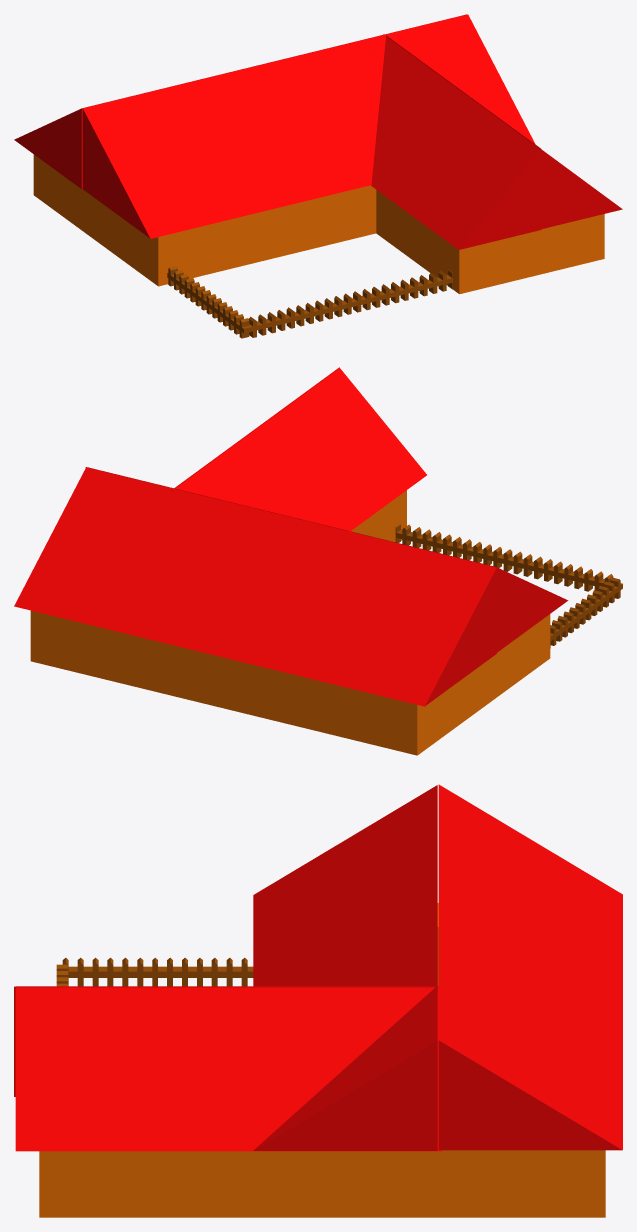
File: Barn.fbx
3 renders of one model, top to bottom at view 1: azimuth 30°, elevation 25°; view 2: azimuth 150°, elevation 25°; view 3: azimuth 270°, elevation 25°, orthographic. The views are drawn at different scales.
Parts seen in each view (by area): view 1: Cube.007, Cube.003, Cube.004, Cube.002, Cube.006, Cube.005, Cube.001; view 2: Cube.005, Cube.003, Cube.004, Cube.002, Cube.007, Cube.001; view 3: Cube.005, Cube.006, Cube.007, Cube.003, Cube.001, Cube.004.
Boxes of the visible parts, x1,y1,x2,y2 form: Cube.007: [83, 14, 535, 238]; Cube.003: [33, 154, 604, 294]; Cube.004: [371, 35, 541, 249]; Cube.002: [248, 269, 452, 337]; Cube.006: [383, 34, 622, 228]; Cube.005: [14, 14, 466, 189]; Cube.001: [167, 266, 251, 338]; Cube.005: [14, 467, 496, 706]; Cube.003: [30, 490, 550, 755]; Cube.004: [172, 367, 426, 531]; Cube.002: [395, 523, 613, 591]; Cube.007: [85, 467, 568, 652]; Cube.001: [550, 577, 622, 648]; Cube.005: [438, 784, 622, 1150]; Cube.006: [15, 986, 442, 1151]; Cube.007: [253, 785, 437, 1150]; Cube.003: [39, 903, 605, 1217]; Cube.001: [62, 957, 253, 986]; Cube.004: [14, 986, 438, 1096].
Bounding box in the file's own units: 532 × 178 × 534.
